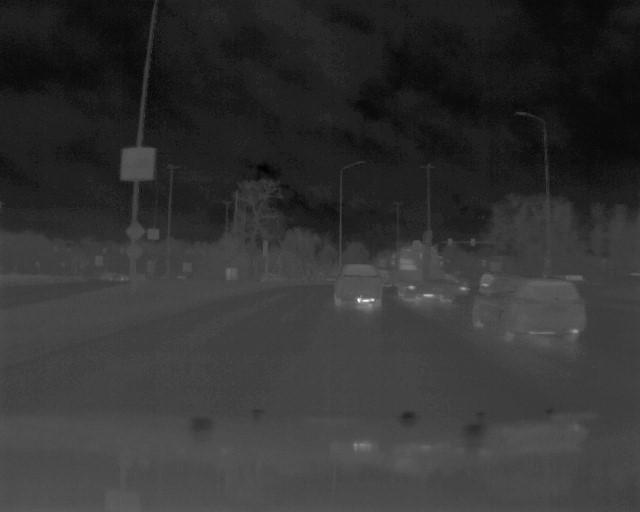car: (473, 272, 588, 346), (332, 258, 386, 310)
